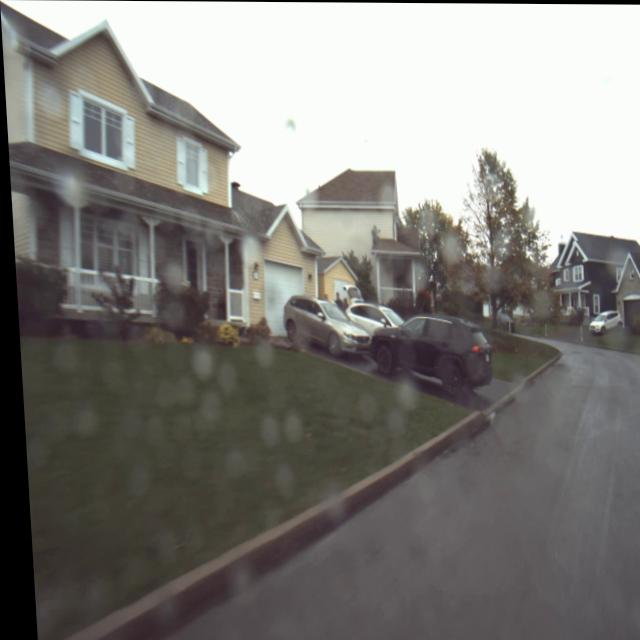car: (360, 298, 501, 403)
